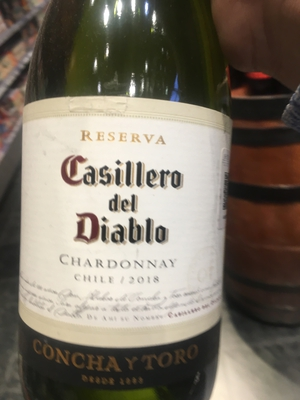casillero del diablo chardonnay: (19, 9, 244, 400)
